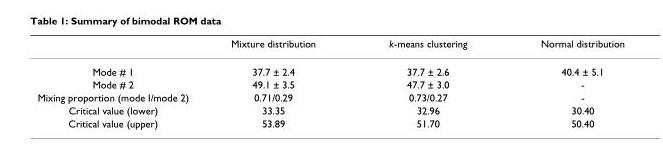table: (36, 37, 624, 128)
table column: (36, 37, 209, 128), (351, 37, 503, 128), (209, 37, 351, 128), (503, 37, 624, 128)
table column header: (36, 37, 624, 57)
table row: (36, 37, 624, 57), (36, 57, 624, 77), (36, 77, 624, 90), (36, 90, 624, 103), (36, 103, 624, 116), (36, 116, 624, 128)
